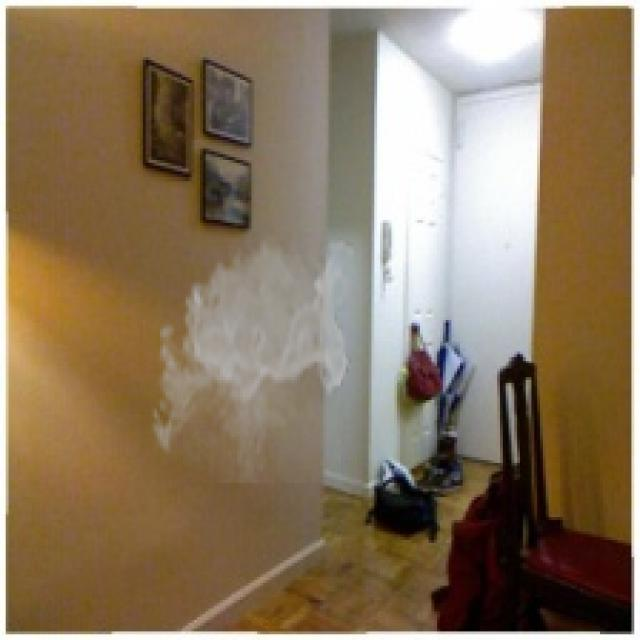Smoke: (146, 231, 354, 483)
